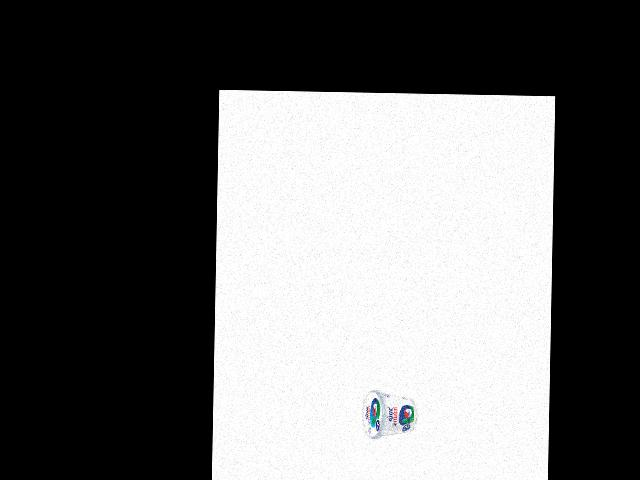cotage: (360, 387, 418, 438)
